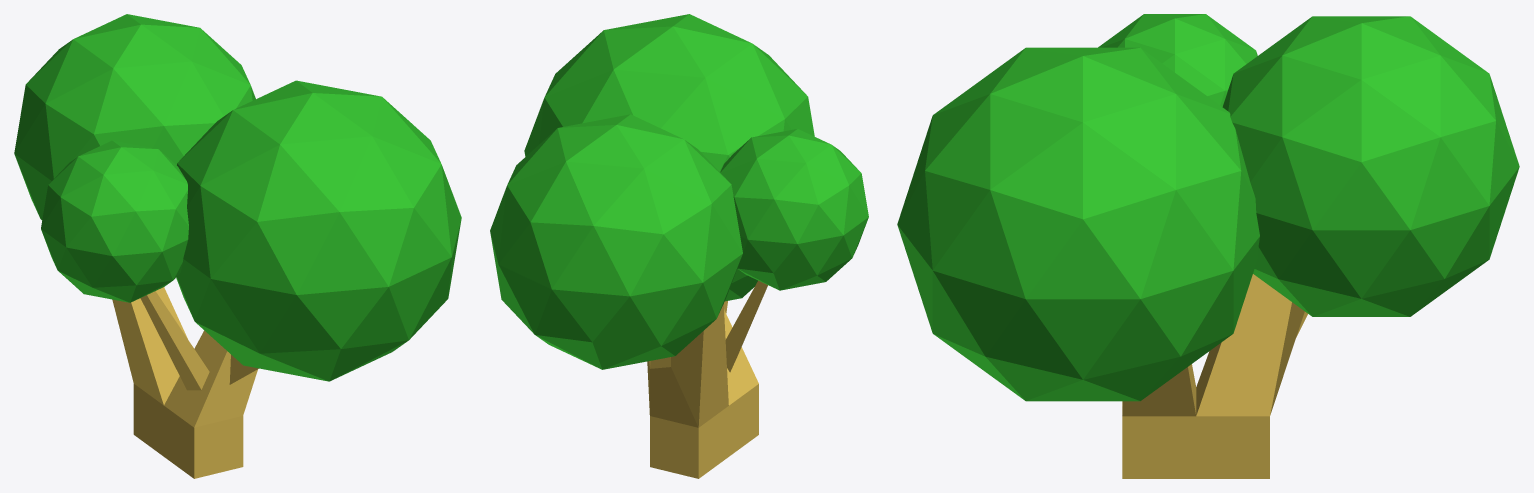
File: bush1.fbx
3 views of the same model, side by side, from view 1: azimuth 30°, elevation 25°; view 2: azimuth 150°, elevation 25°; view 3: azimuth 270°, elevation 25° (orthographic). The views are drawn at different scales.
Parts seen in each view (by area): view 1: Icosphere, Icosphere.001, Icosphere.002, Cube; view 2: Icosphere.001, Icosphere, Icosphere.002, Cube; view 3: Icosphere, Icosphere.001, Cube, Icosphere.002.
Part boxes in pixels (x1,y1,x2,y2): Icosphere: (176, 80, 461, 381); Icosphere.001: (14, 14, 255, 220); Icosphere.002: (41, 140, 188, 302); Cube: (112, 287, 258, 478); Icosphere.001: (490, 114, 742, 369); Icosphere: (524, 14, 814, 301); Icosphere.002: (720, 128, 868, 290); Cube: (647, 280, 767, 478); Icosphere: (897, 47, 1259, 401); Icosphere.001: (1222, 16, 1519, 316); Cube: (1122, 274, 1307, 478); Icosphere.002: (1098, 14, 1257, 106).
Size of the model in its own units: 340 by 350 by 434.
